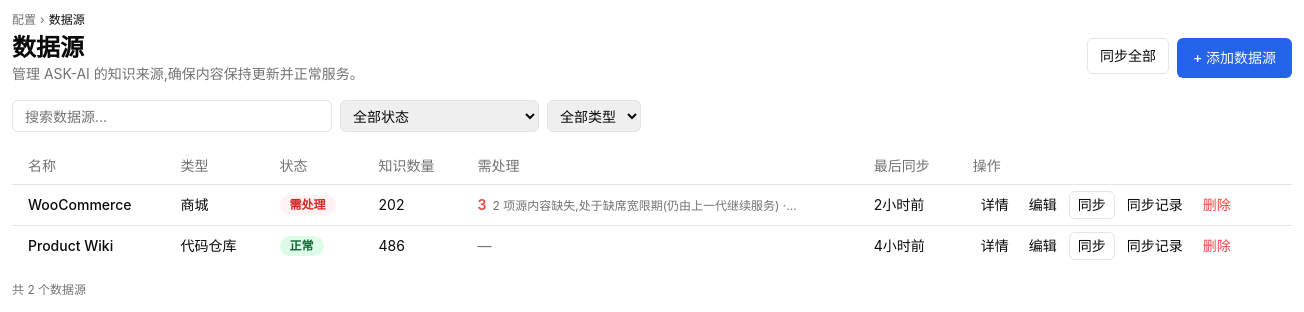
it: v1.6.3 B1 数据源列表收敛(hard ref panel 1) › 状态过滤下拉(呈现层,选项来自操作者状态词表)
The image size is (1304, 312).
Select "需处理" in the dropdown named "按状态过滤": (440, 116) [340, 100, 539, 132]
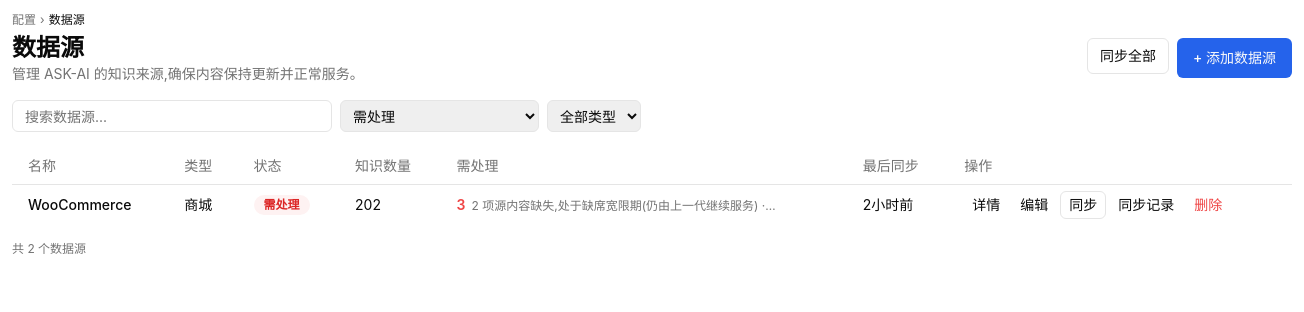
Expected: the button "WooCommerce" is shown, [28, 196, 132, 213]
Expected: the button "Product Wiki" is gone
